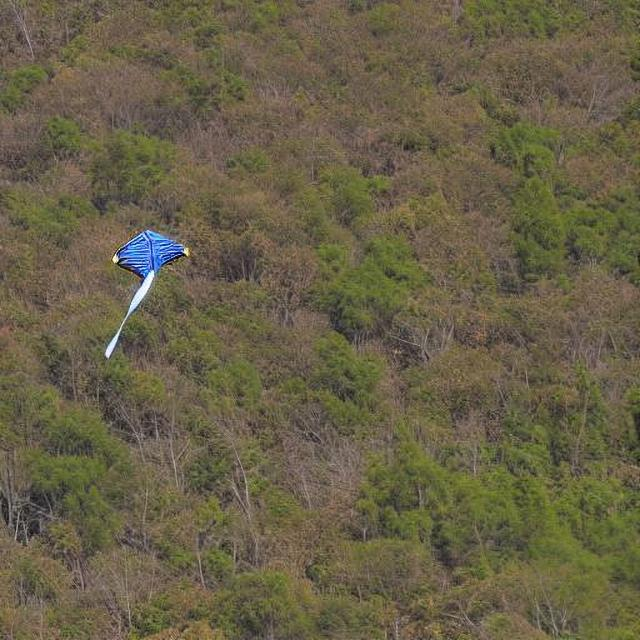floating object: (104, 230, 188, 358)
